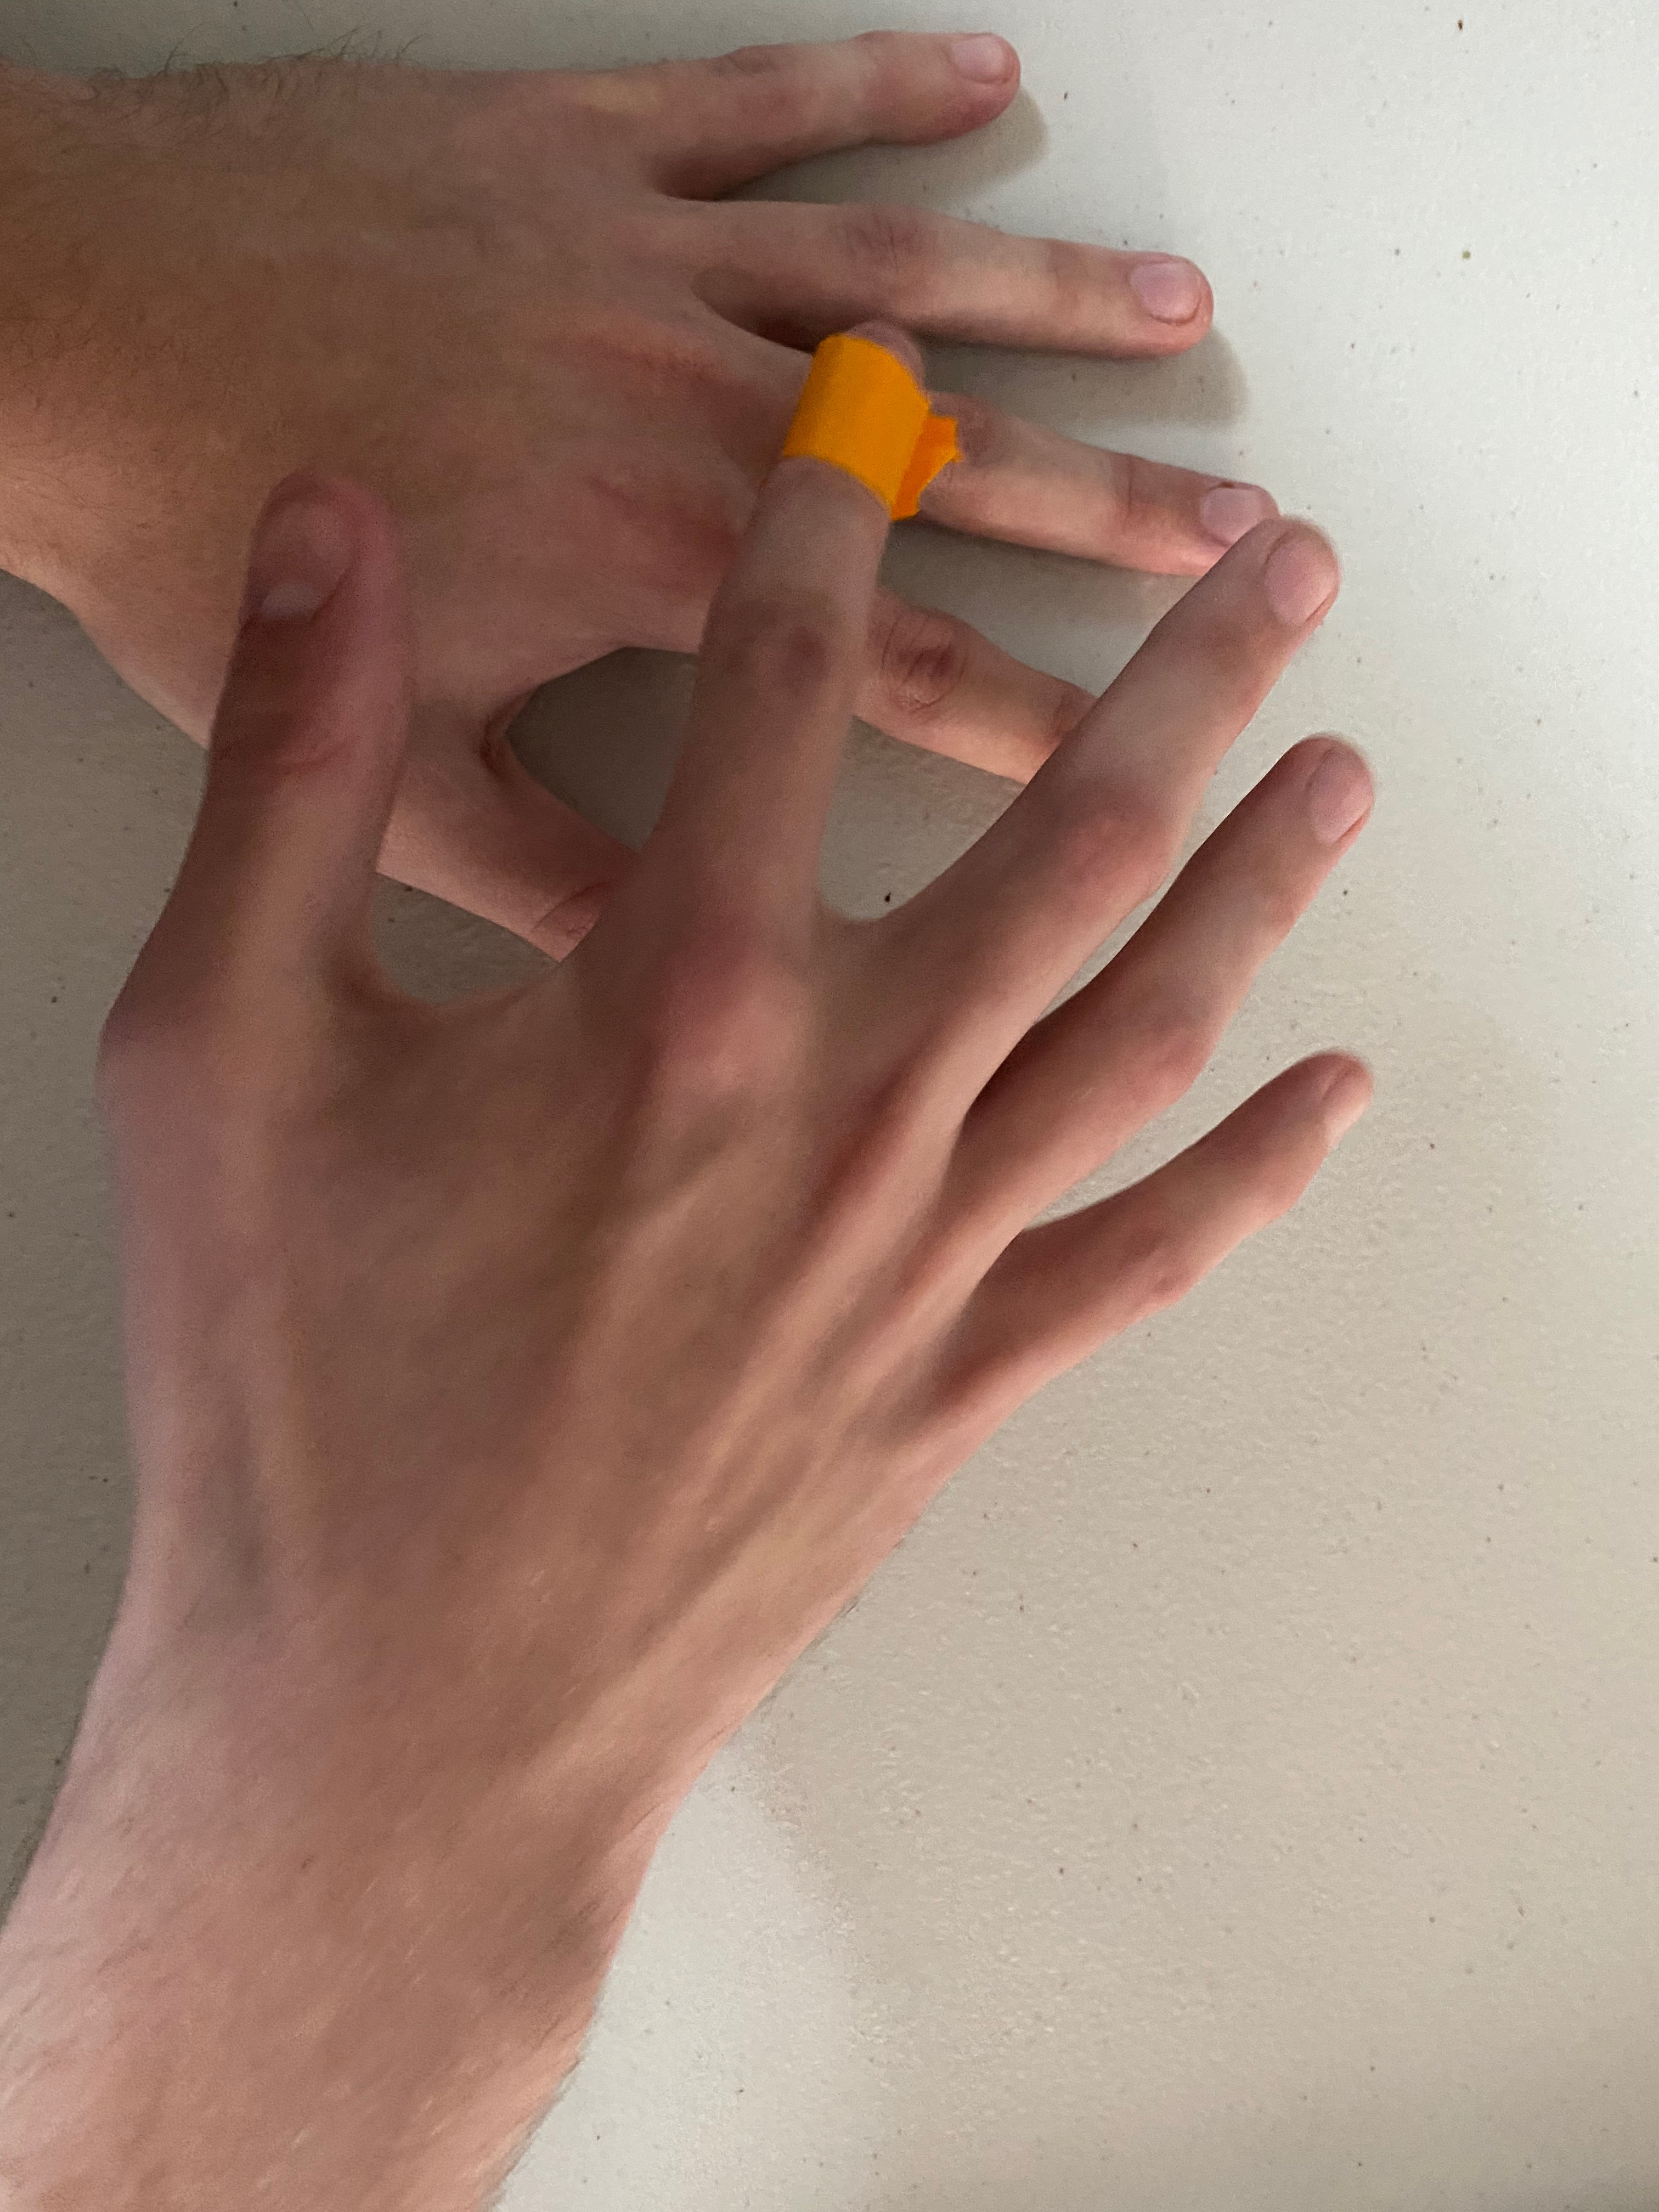fingertip: (775, 322, 964, 543)
